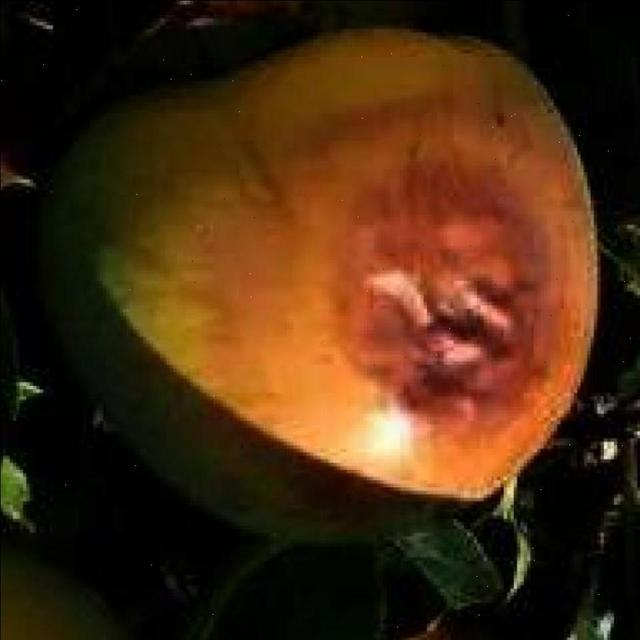Sunscald Fruit: (205, 96, 370, 327)
